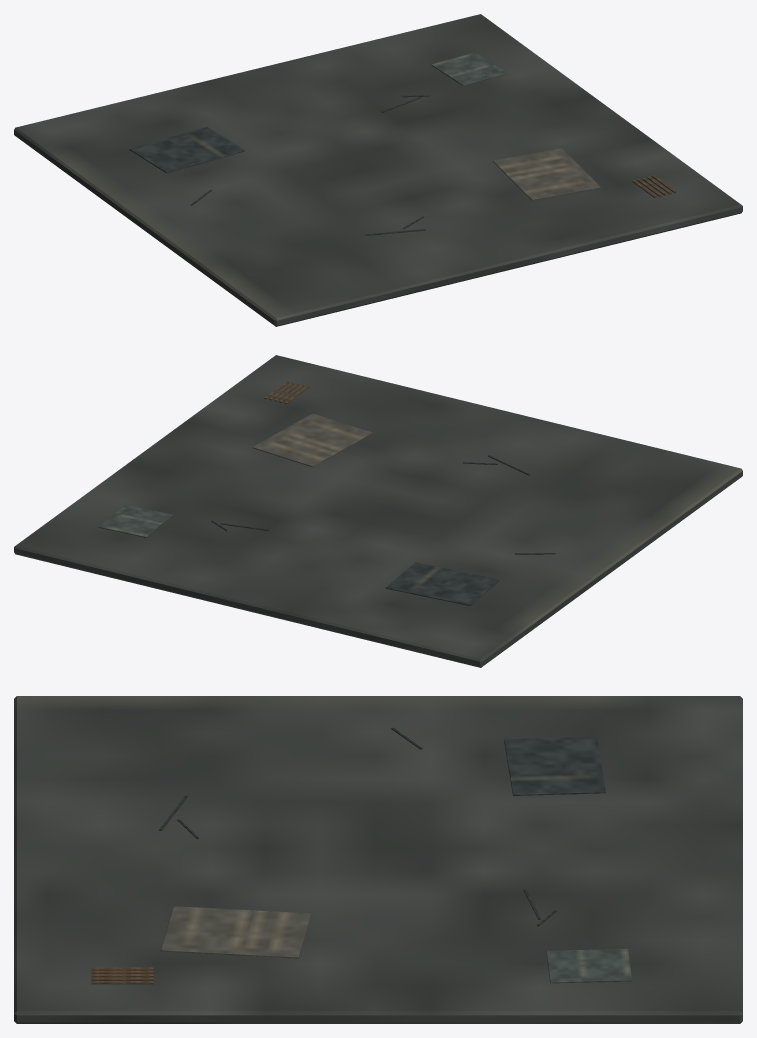
Rendered from SH_POC_FloorSlab.fbx.
The picture shows the model from 3 angles, top to bottom: view 1: azimuth 30°, elevation 25°; view 2: azimuth 150°, elevation 25°; view 3: azimuth 270°, elevation 25°; orthographic projection. The views are drawn at different scales.
Parts seen in each view (by area): view 1: SH_POC_FloorSlab; view 2: SH_POC_FloorSlab; view 3: SH_POC_FloorSlab.
Part boxes in pixels (x1,y1,x2,y2): SH_POC_FloorSlab: (14,14,742,326); SH_POC_FloorSlab: (14,355,742,667); SH_POC_FloorSlab: (14,696,742,1023).
Size of the model in its own units: 6.6 by 0.155 by 6.4.
Materials: 1 (1 with a texture image).
